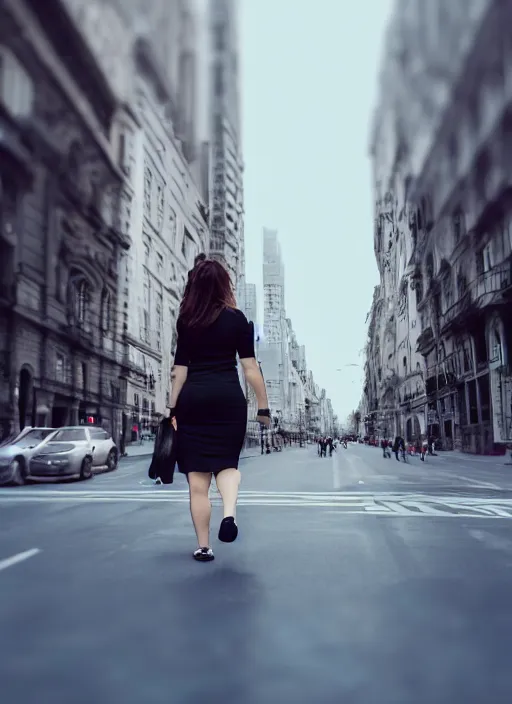person: (147, 257, 278, 565)
